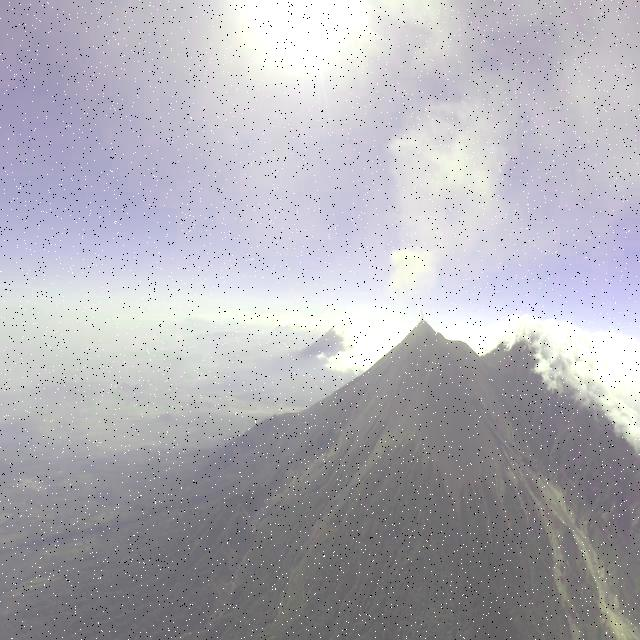Plume: (419, 308, 424, 322)
Summit: (404, 320, 444, 340)
